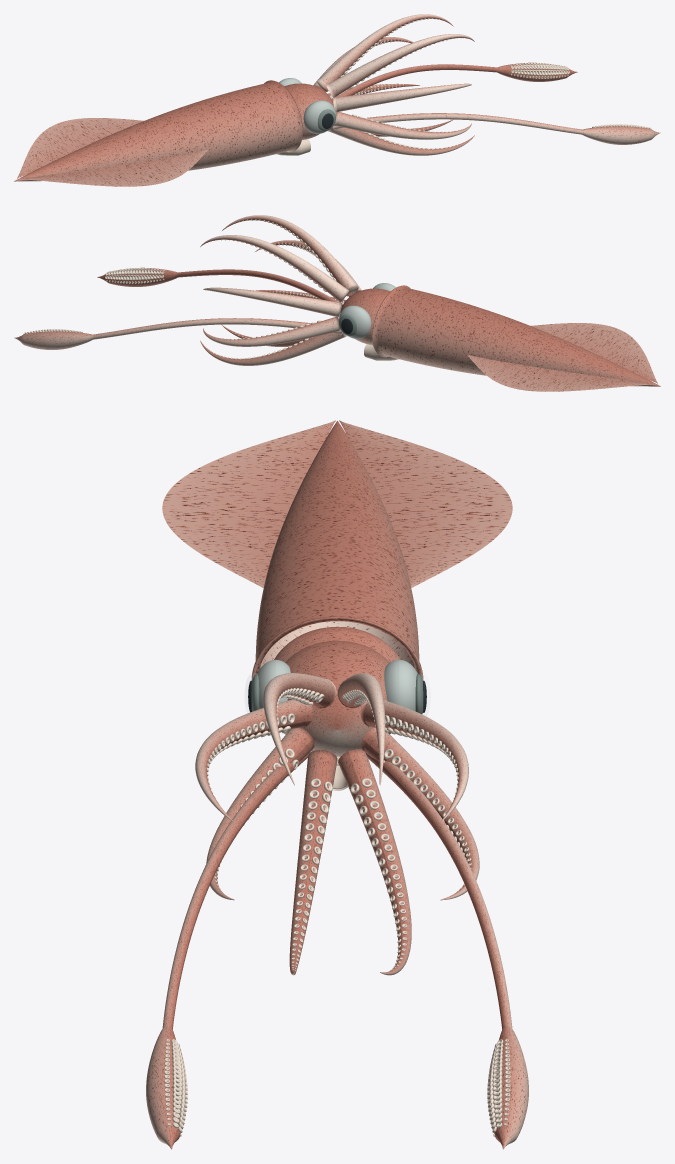
File: tintahal.glb
The picture shows the model from 3 angles, top to bottom: view 1: azimuth 30°, elevation 25°; view 2: azimuth 150°, elevation 25°; view 3: azimuth 270°, elevation 25°; orthographic projection. The views are drawn at different scales.
Parts seen in each view (by area): view 1: Mantle, Fin_right, Fin_left, Tentacle_right, Tentacle_left, Arm_01, Arm_02, Arm_08, Arm_03, Arm_04, Head, Left_club_suckers_four_rows (+3 smaller); view 2: Mantle, Fin_left, Fin_right, Tentacle_left, Tentacle_right, Arm_08, Arm_01, Arm_06, Arm_07, Arm_05, Head, Right_club_suckers_four_rows (+2 smaller); view 3: Mantle, Fin_left, Fin_right, Tentacle_left, Tentacle_right, Head, Arm_05, Arm_04, Arm_06, Arm_02, Arm_07, Arm_01 (+8 smaller).
Boxes of the visible parts, x1=… form: Mantle: x1=14, y1=80, x2=302, y2=181; Fin_right: x1=18, y1=150, x2=207, y2=186; Fin_left: x1=17, y1=118, x2=144, y2=178; Tentacle_right: x1=332, y1=113, x2=660, y2=144; Tentacle_left: x1=332, y1=62, x2=577, y2=101; Arm_01: x1=326, y1=34, x2=474, y2=97; Arm_02: x1=333, y1=83, x2=471, y2=112; Arm_08: x1=317, y1=14, x2=453, y2=91; Arm_03: x1=334, y1=112, x2=471, y2=139; Arm_04: x1=327, y1=127, x2=474, y2=155; Head: x1=284, y1=83, x2=333, y2=139; Left_club_suckers_four_rows: x1=510, y1=62, x2=569, y2=78; Mantle: x1=372, y1=285, x2=660, y2=386; Fin_left: x1=467, y1=355, x2=656, y2=391; Fin_right: x1=531, y1=323, x2=657, y2=383; Tentacle_left: x1=14, y1=318, x2=342, y2=349; Tentacle_right: x1=97, y1=267, x2=341, y2=307; Arm_08: x1=200, y1=235, x2=349, y2=302; Arm_01: x1=222, y1=215, x2=358, y2=296; Arm_06: x1=203, y1=317, x2=340, y2=346; Arm_07: x1=203, y1=287, x2=341, y2=317; Arm_05: x1=200, y1=332, x2=347, y2=365; Head: x1=340, y1=288, x2=390, y2=345; Right_club_suckers_four_rows: x1=105, y1=267, x2=164, y2=283; Mantle: x1=251, y1=421, x2=423, y2=680; Fin_left: x1=339, y1=420, x2=512, y2=587; Fin_right: x1=162, y1=420, x2=335, y2=587; Tentacle_left: x1=366, y1=753, x2=528, y2=1149; Tentacle_right: x1=146, y1=752, x2=310, y2=1149; Head: x1=284, y1=640, x2=390, y2=756; Arm_05: x1=338, y1=749, x2=411, y2=975; Arm_04: x1=289, y1=750, x2=337, y2=975; Arm_06: x1=361, y1=727, x2=479, y2=900; Arm_02: x1=195, y1=699, x2=313, y2=822; Arm_07: x1=360, y1=700, x2=468, y2=822; Arm_01: x1=263, y1=673, x2=336, y2=785.
Bounding box in the file's own units: 0.543 × 0.112 × 0.1488.
Materials: 8 (2 with a texture image).
